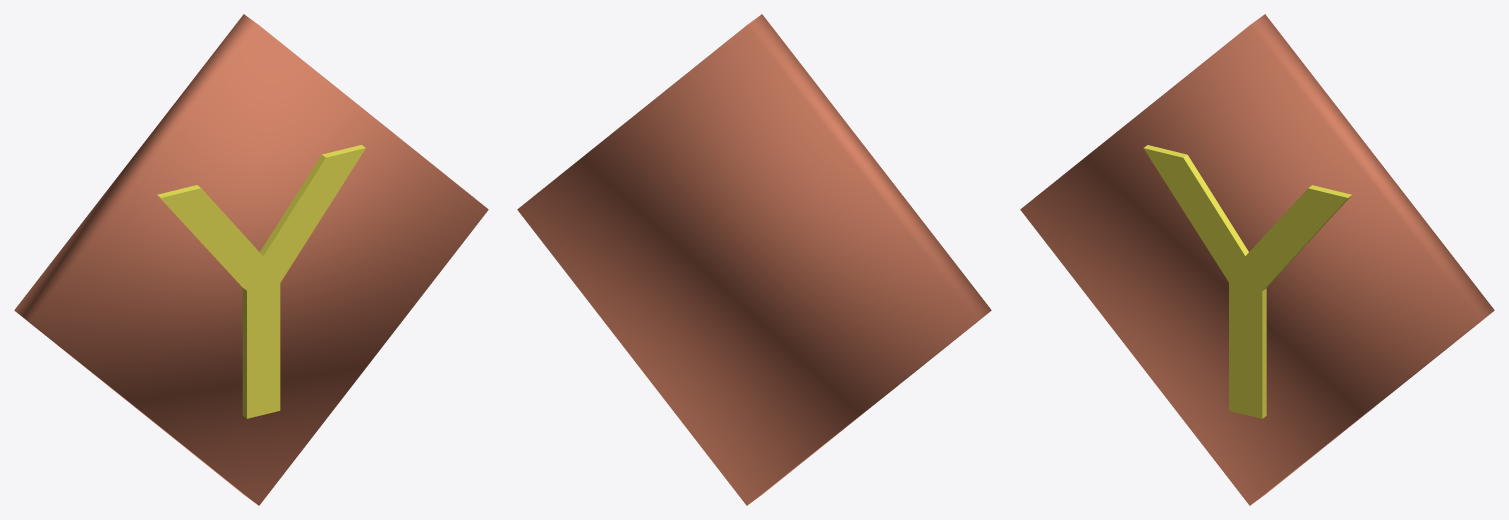
File: YSign.glb
3 renders of one model, left to right at view 1: azimuth 30°, elevation 25°; view 2: azimuth 150°, elevation 25°; view 3: azimuth 330°, elevation 25°, orthographic.
Visible parts, largest first — view 1: Cube, Text; view 2: Cube; view 3: Cube, Text.
Part boxes in pixels (left/top/right/bottom): Cube: left=14, top=14, right=488, bottom=505; Text: left=157, top=145, right=365, bottom=418; Cube: left=517, top=14, right=991, bottom=505; Cube: left=1020, top=14, right=1494, bottom=505; Text: left=1143, top=145, right=1351, bottom=418.
Bounding box in the file's own units: 2.83 × 2.83 × 0.2095.
